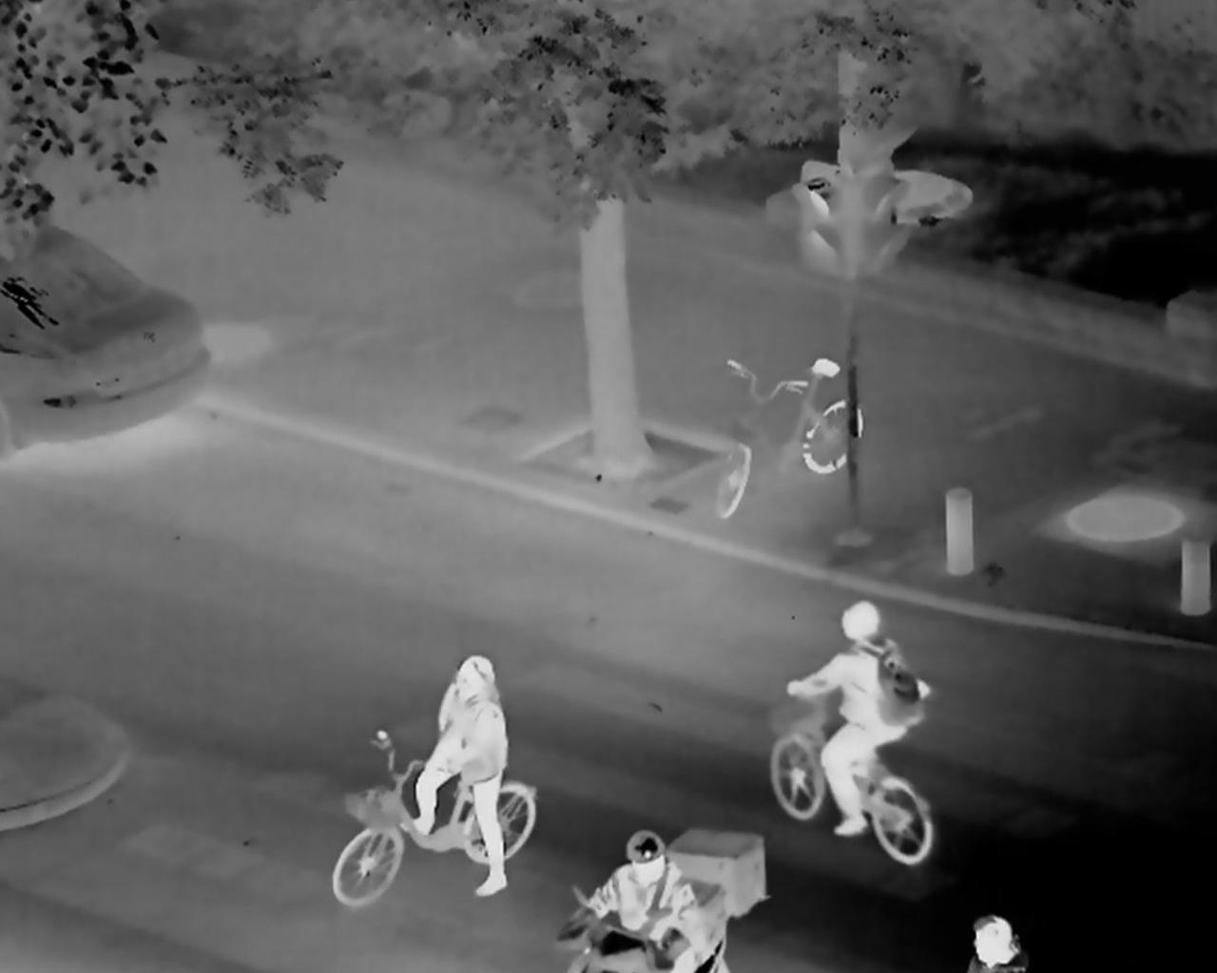person: (778, 604, 927, 842), (395, 651, 512, 897), (575, 831, 702, 973), (961, 913, 1022, 973)
